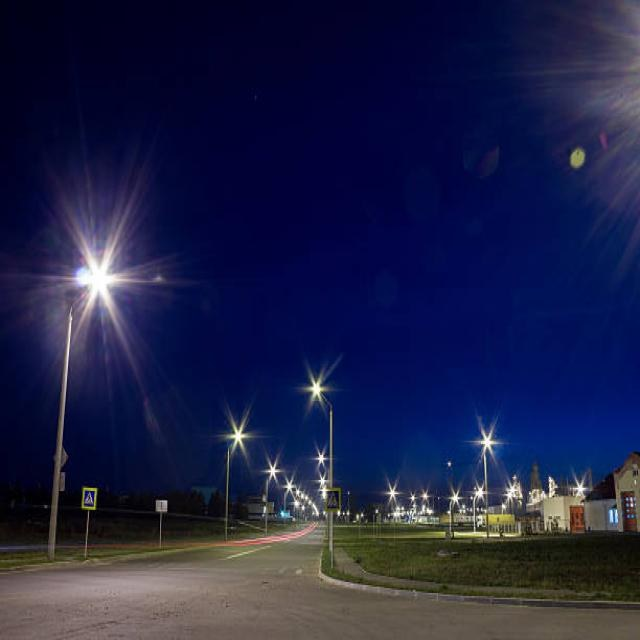acesa: (74, 222, 123, 327), (306, 367, 333, 407), (227, 419, 251, 453), (478, 423, 496, 457)
